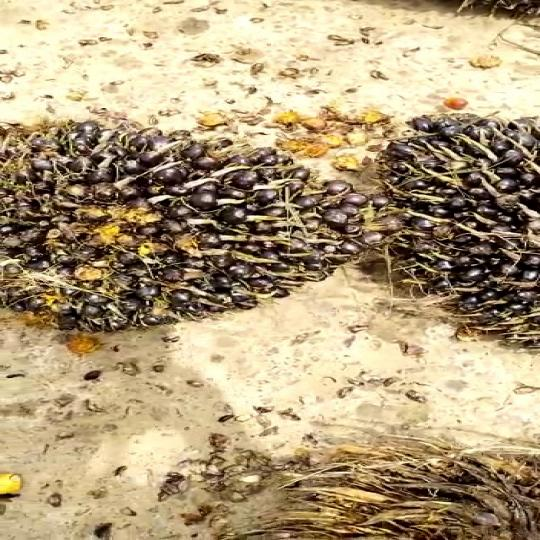mentah: (0, 95, 394, 334), (383, 102, 540, 367)
